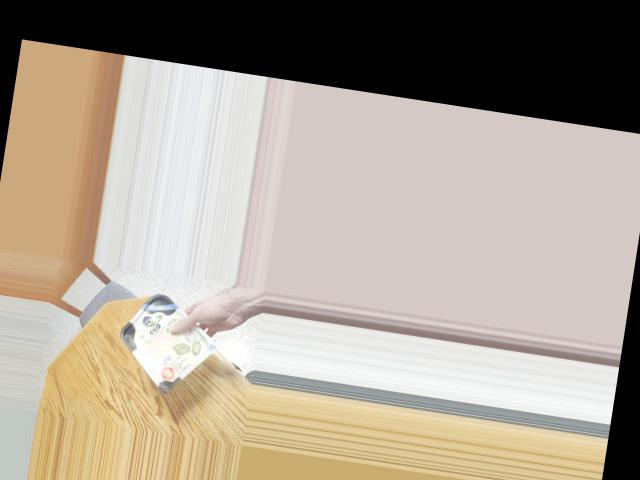cheese: (113, 296, 206, 385)
